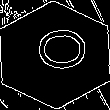O_W: (25, 33, 85, 77)
